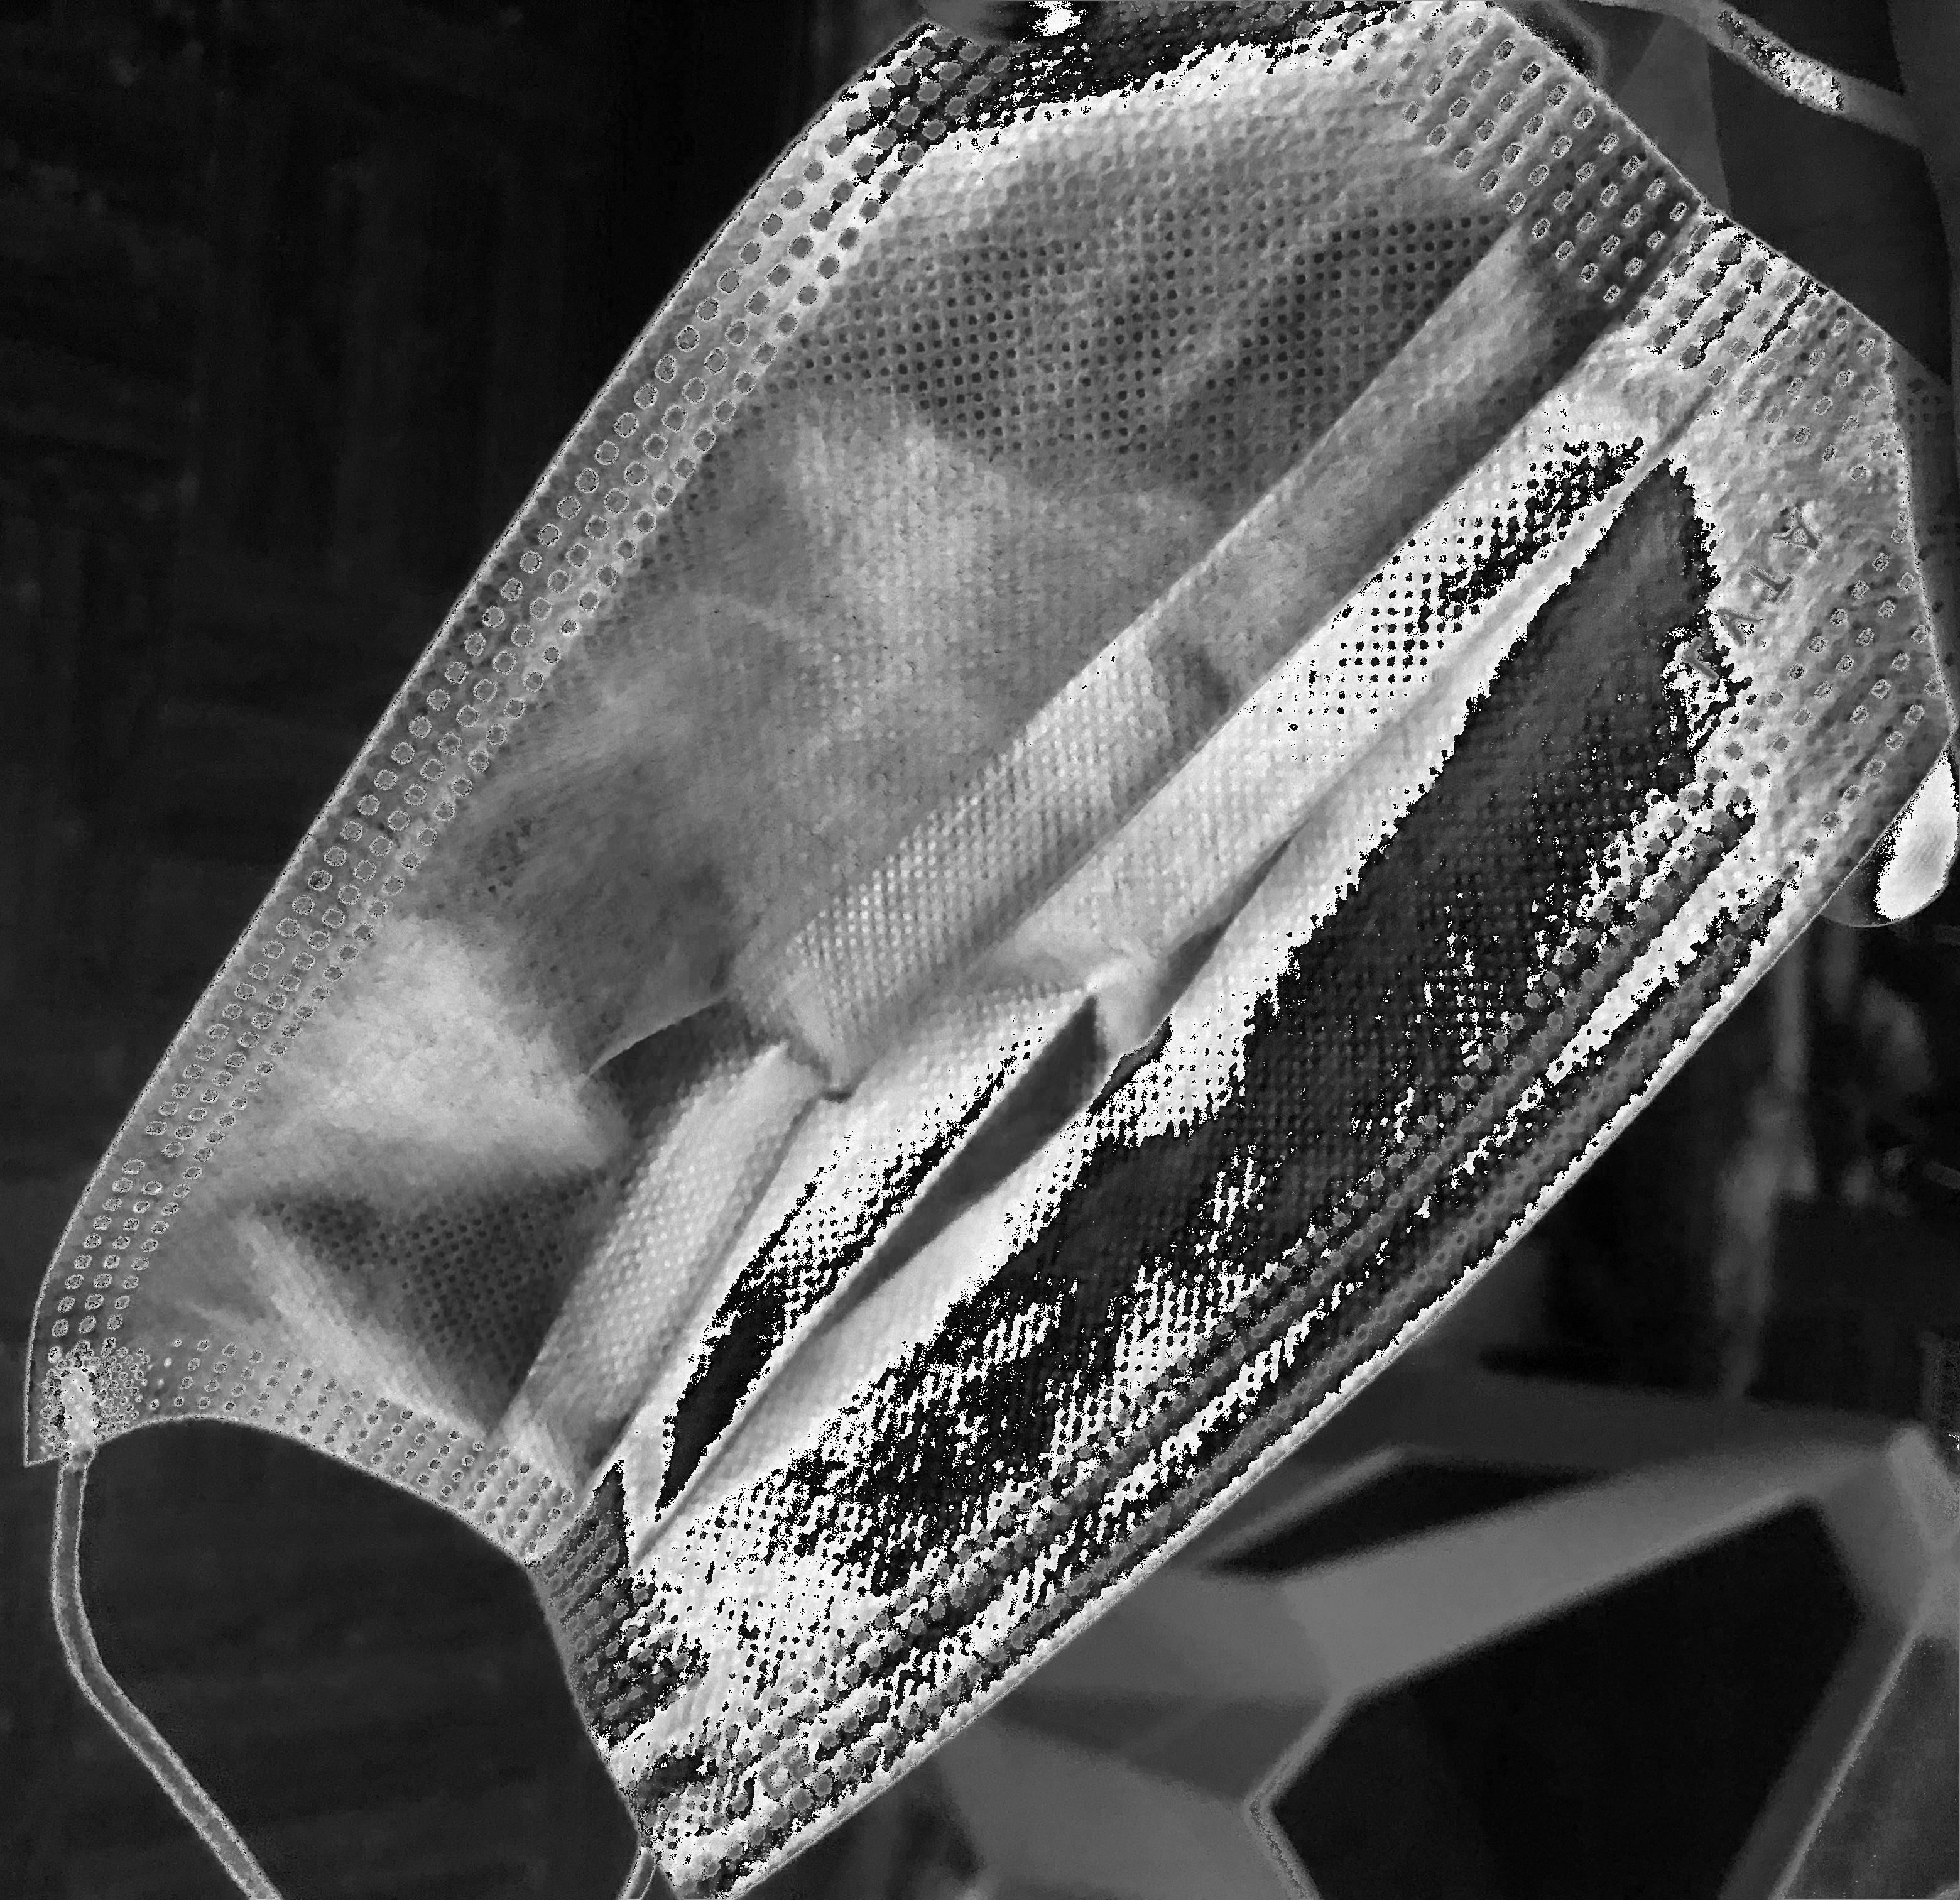High GSM: (686, 689, 1277, 1239), (996, 182, 1405, 763), (1150, 474, 1703, 829)
